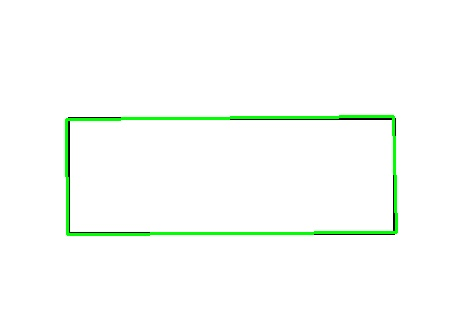line_segment: (66, 116, 397, 236)
